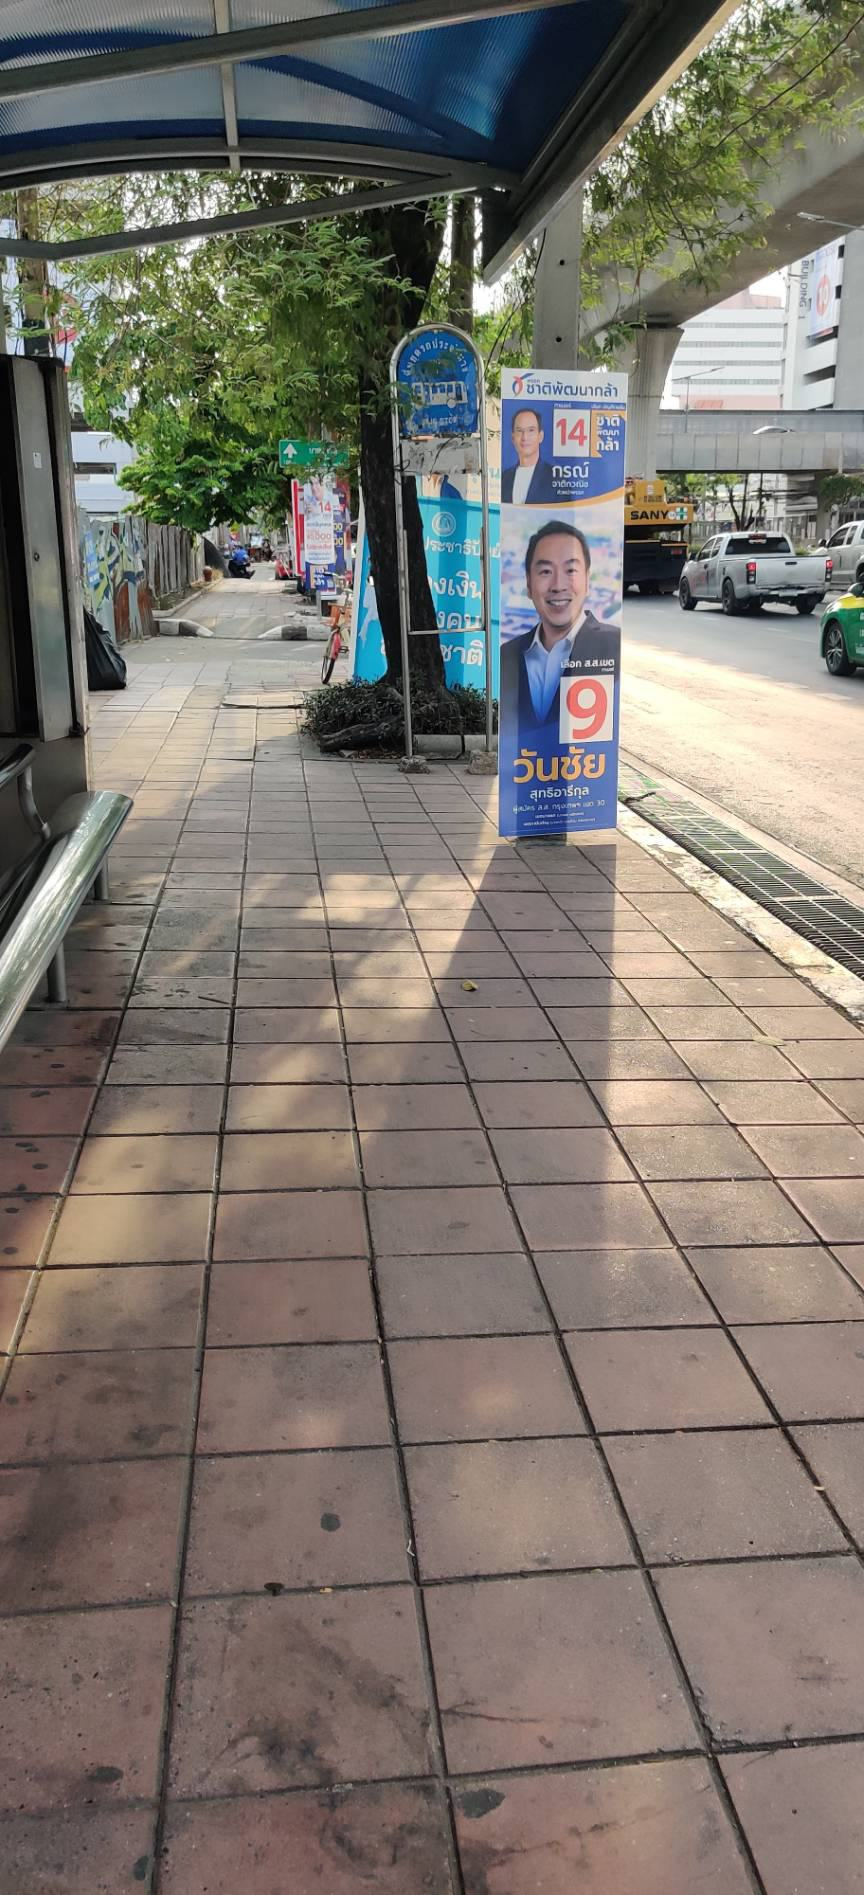Banner: (481, 357, 621, 840)
